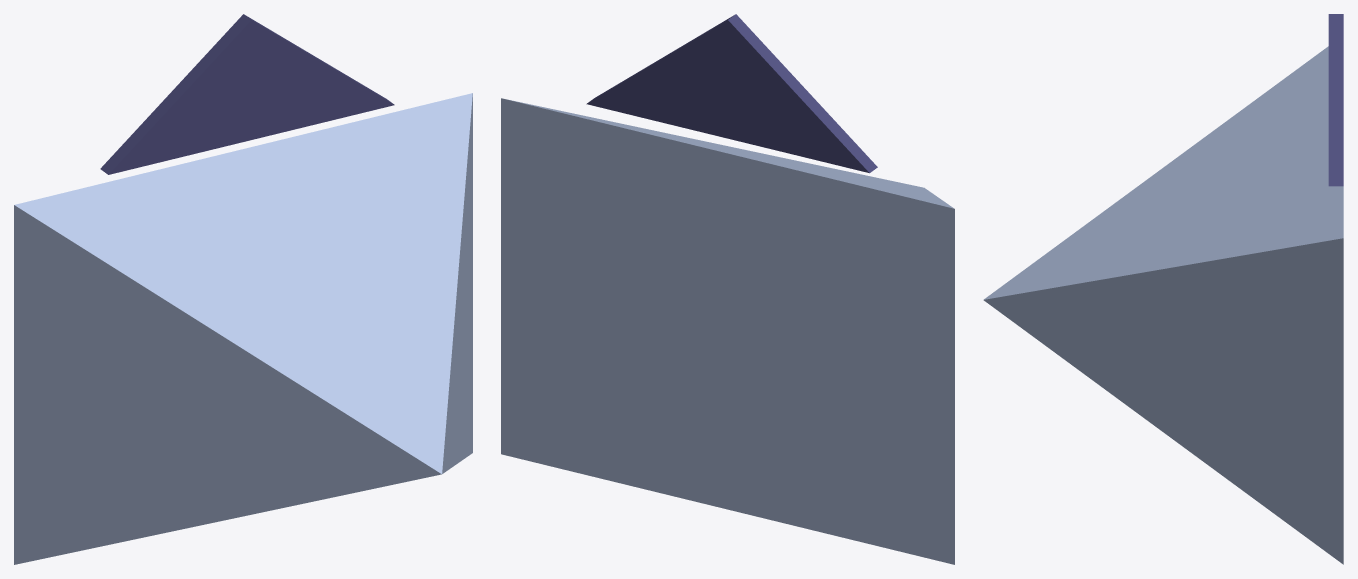
File: camera.dae
The picture shows the model from 3 angles, left to right: view 1: azimuth 30°, elevation 25°; view 2: azimuth 150°, elevation 25°; view 3: azimuth 270°, elevation 25°; orthographic projection. The views are drawn at different scales.
Parts seen in each view (by area): view 1: camera, direction; view 2: camera, direction; view 3: camera, direction.
Part boxes in pixels (left/top/right/bottom): camera: left=14, top=93, right=472, bottom=564; direction: left=100, top=14, right=394, bottom=174; camera: left=501, top=98, right=954, bottom=564; direction: left=586, top=14, right=877, bottom=173; camera: left=983, top=46, right=1343, bottom=564; direction: left=1328, top=14, right=1343, bottom=186.
Bounding box in the file's own units: 0.16 × 0.12 × 0.165.
